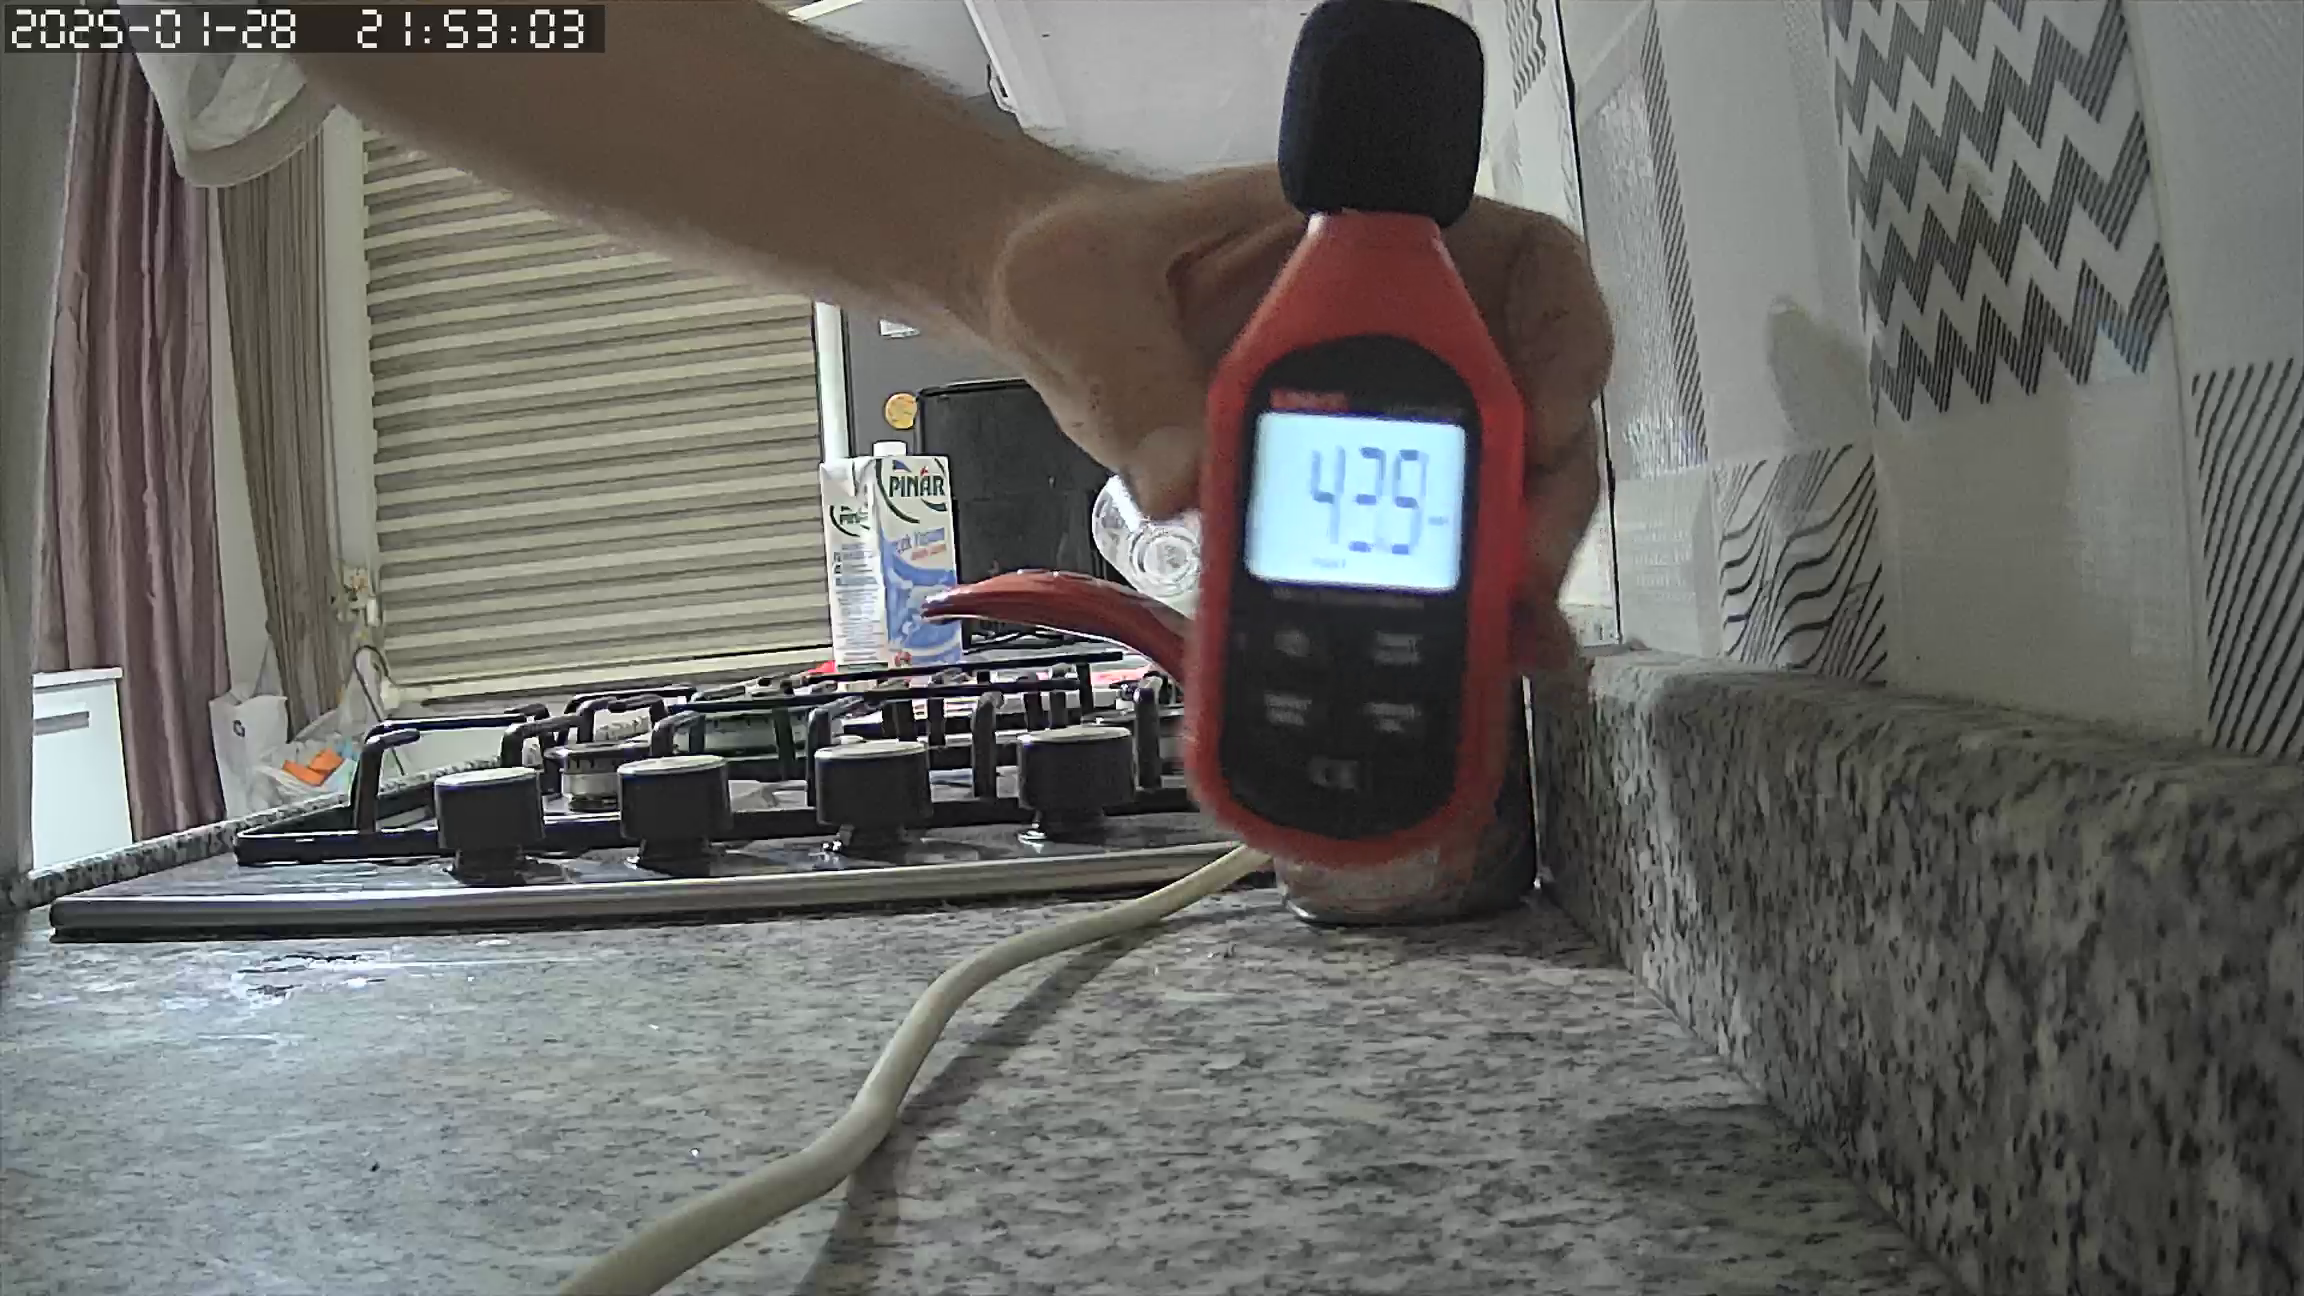screen: (1245, 411, 1465, 597)
